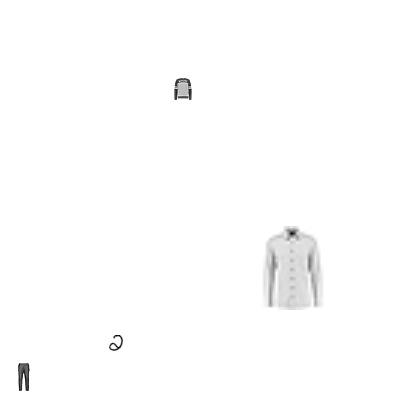2: (105, 332, 127, 354)
Pullover: (172, 78, 194, 100)
Shirt: (251, 226, 335, 310)
Trouser: (10, 363, 38, 391)
